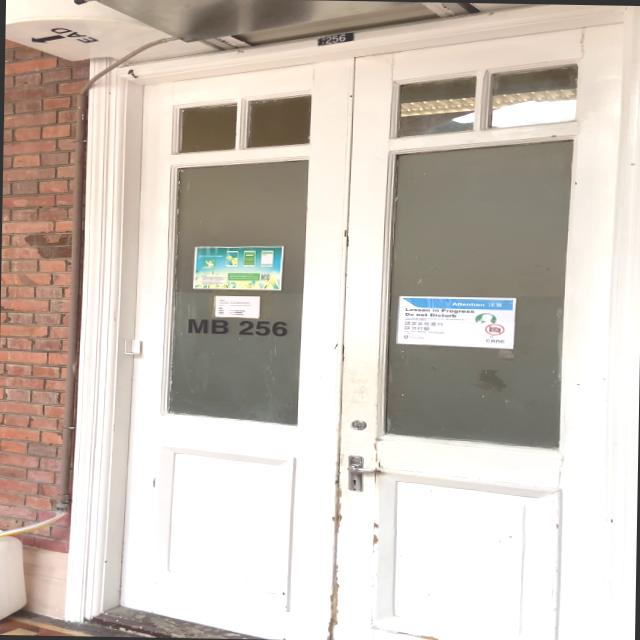room256: (306, 29, 359, 52)
room256Window: (180, 316, 293, 340)
